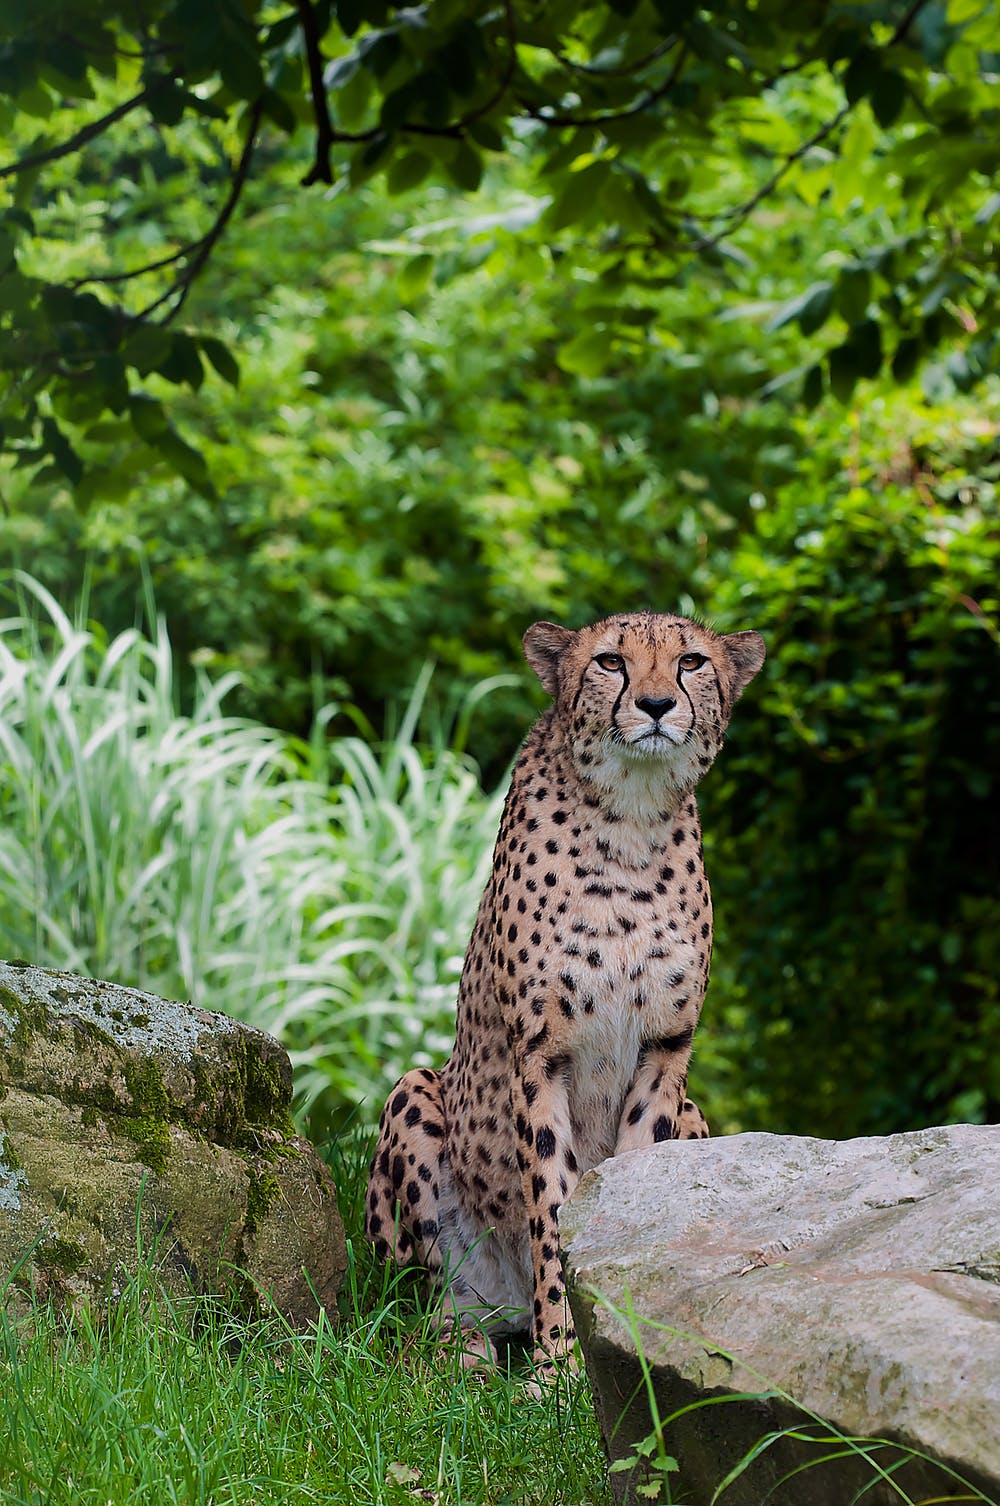cheetah: (506, 585, 802, 807)
